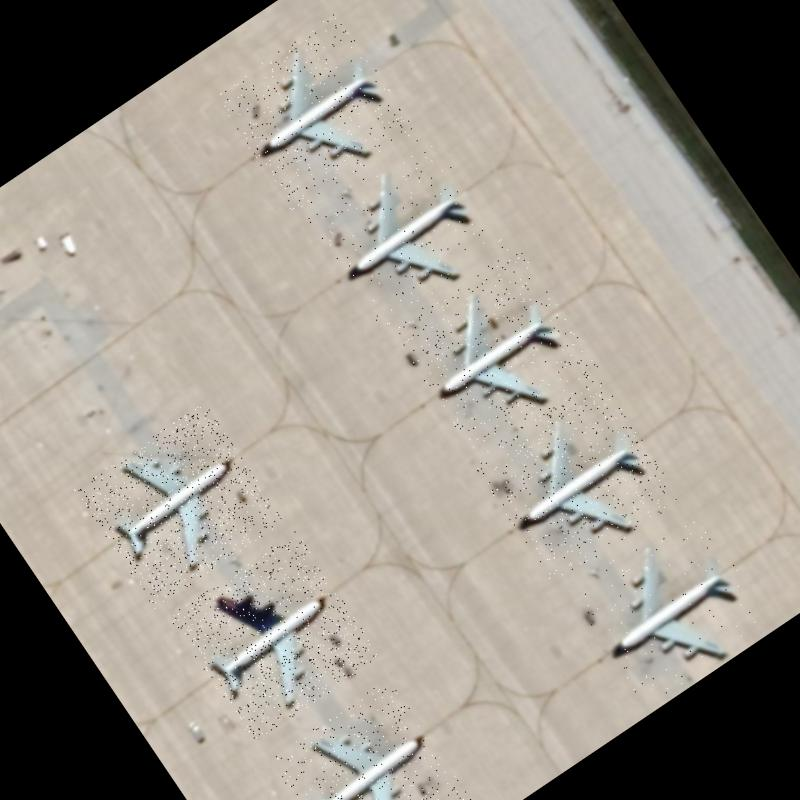A11: (168, 530, 382, 744), (470, 374, 682, 586), (391, 246, 601, 454), (74, 401, 285, 608), (566, 506, 773, 710), (213, 12, 418, 214), (305, 132, 510, 334), (269, 677, 473, 800)
